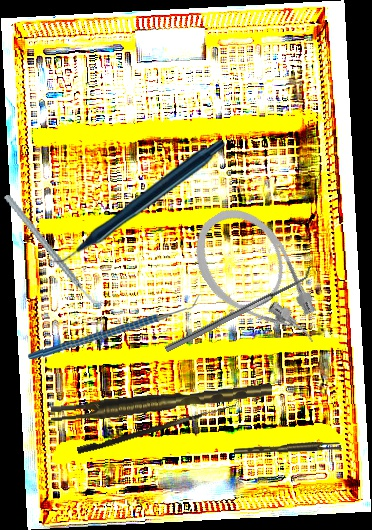Cannula: (178, 193, 337, 373)
Chopper: (3, 177, 105, 324), (27, 288, 203, 365)
Handpiece: (47, 138, 225, 264)
Hook Surgical: (76, 396, 237, 458)
Spatula Surgical: (161, 265, 316, 353)
Tissue Forceps: (49, 383, 274, 423), (233, 441, 342, 455)
